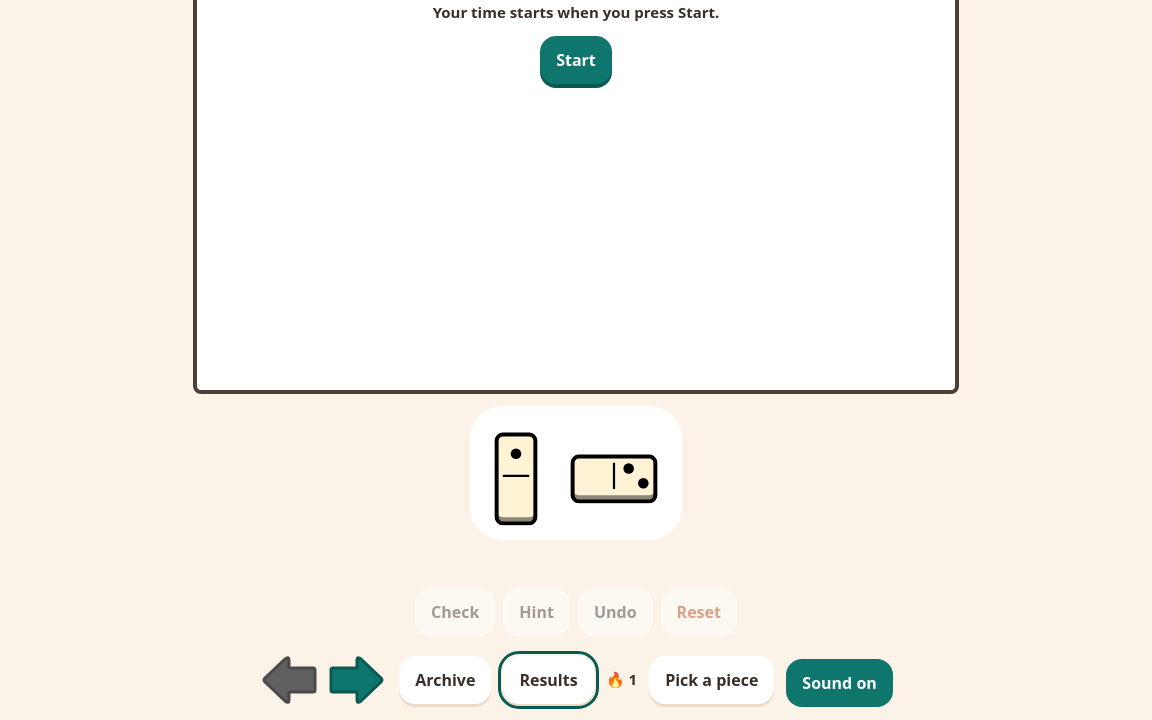
Test: the dialog's focus (rule 7) › wraps Tab both ways through its focus guards
This screenshot has width=1152, height=720.
(page scrolled)
Expected: the button "Archive" is shown, [399,656,491,704]
What coordinates should you click on to do the following:
click the button "Results"
I would click on:
 (549, 680)
Its box is [503,656,594,704].
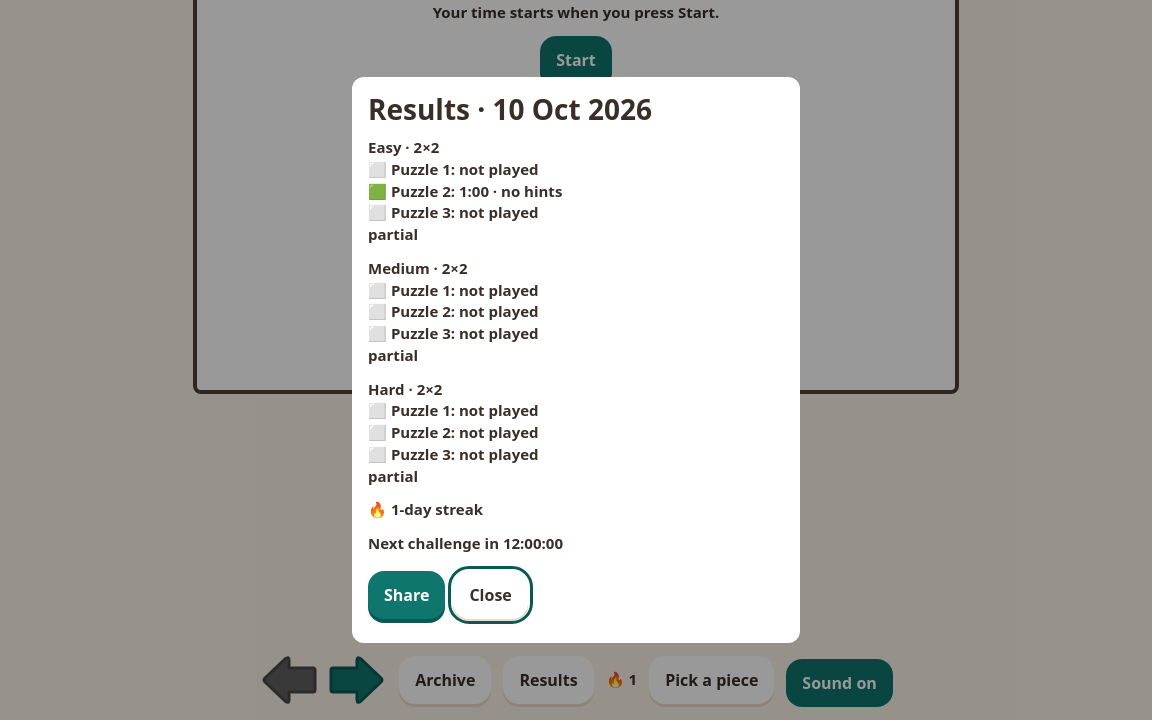
Expected: the dialog is shown
